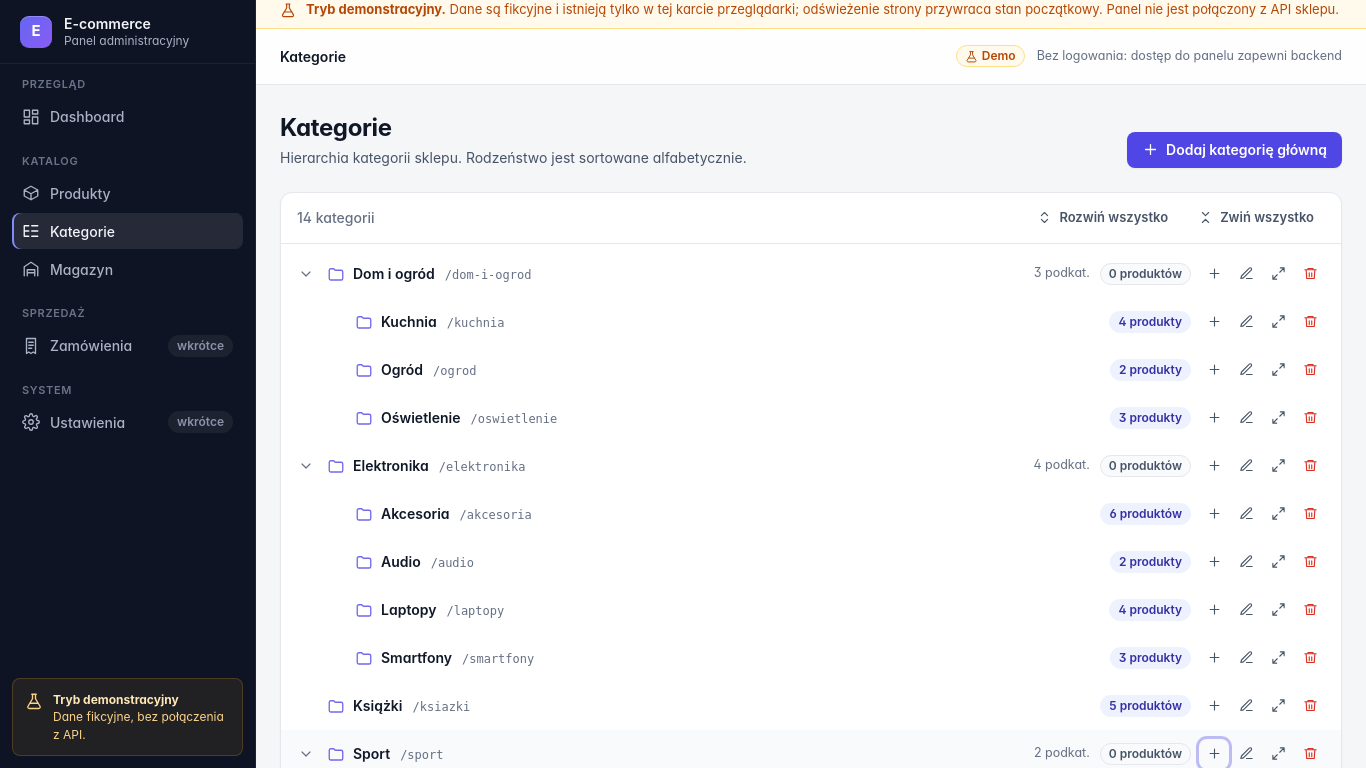
CategoriesPage › adds a subcategory
The width and height of the screenshot is (1366, 768).
Click the button named "Dodaj podkategorię do Sport": (1214, 754) top-left (1199, 738), bottom-right (1229, 767)
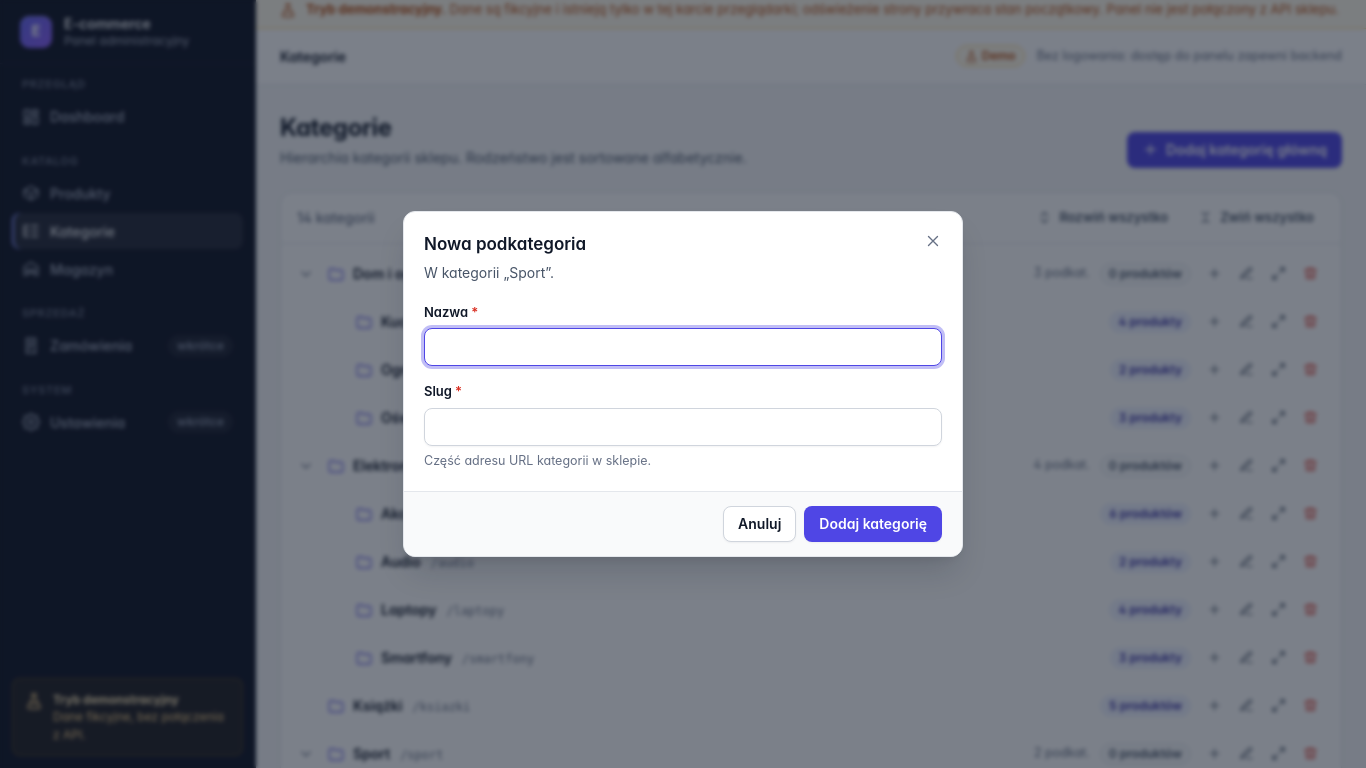
In the field labelled "Nazwa*": (683, 347) top-left (424, 328), bottom-right (942, 366), type "Turystyka"
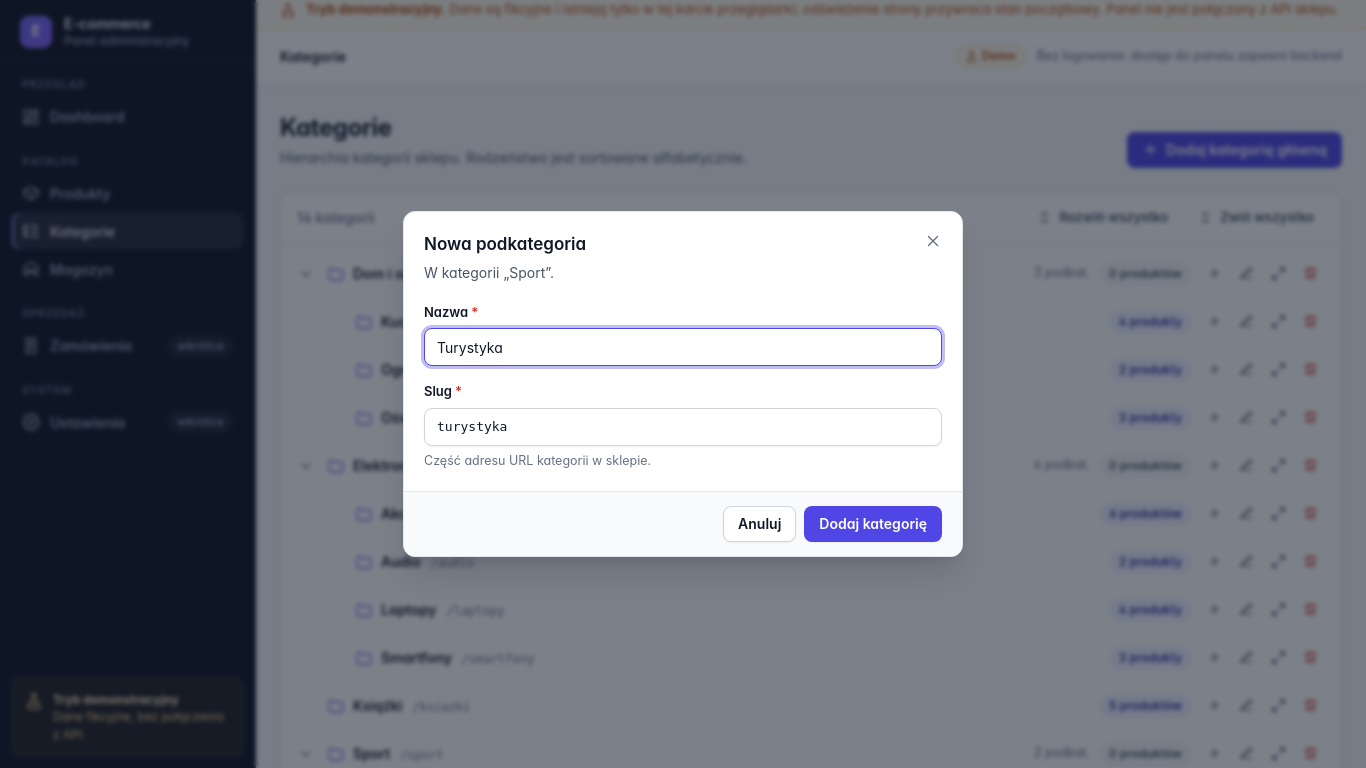
Expected: the field labelled "Slug*" holds "turystyka", top-left (424, 408), bottom-right (942, 446)
Click the button "Dodaj kategorię": (873, 524) top-left (804, 506), bottom-right (942, 542)
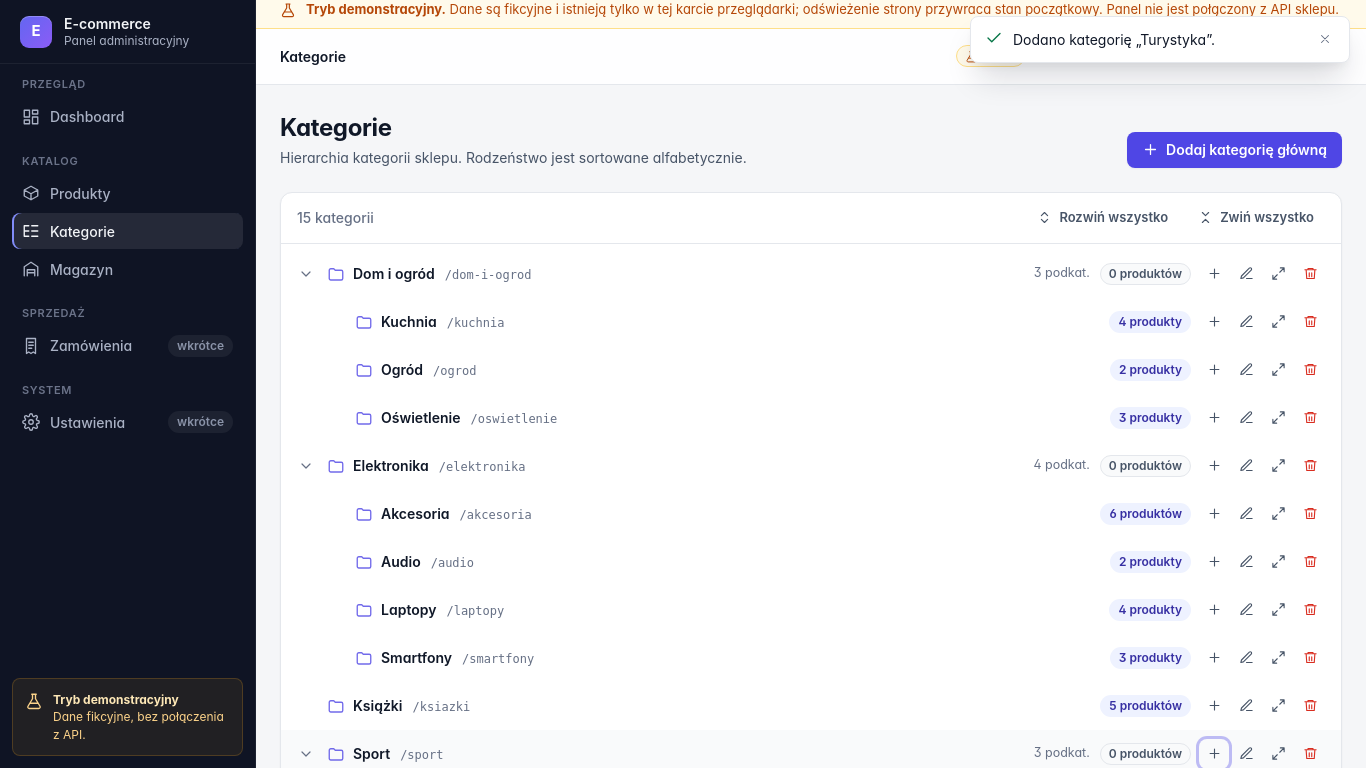
Expected: the dialog is gone
